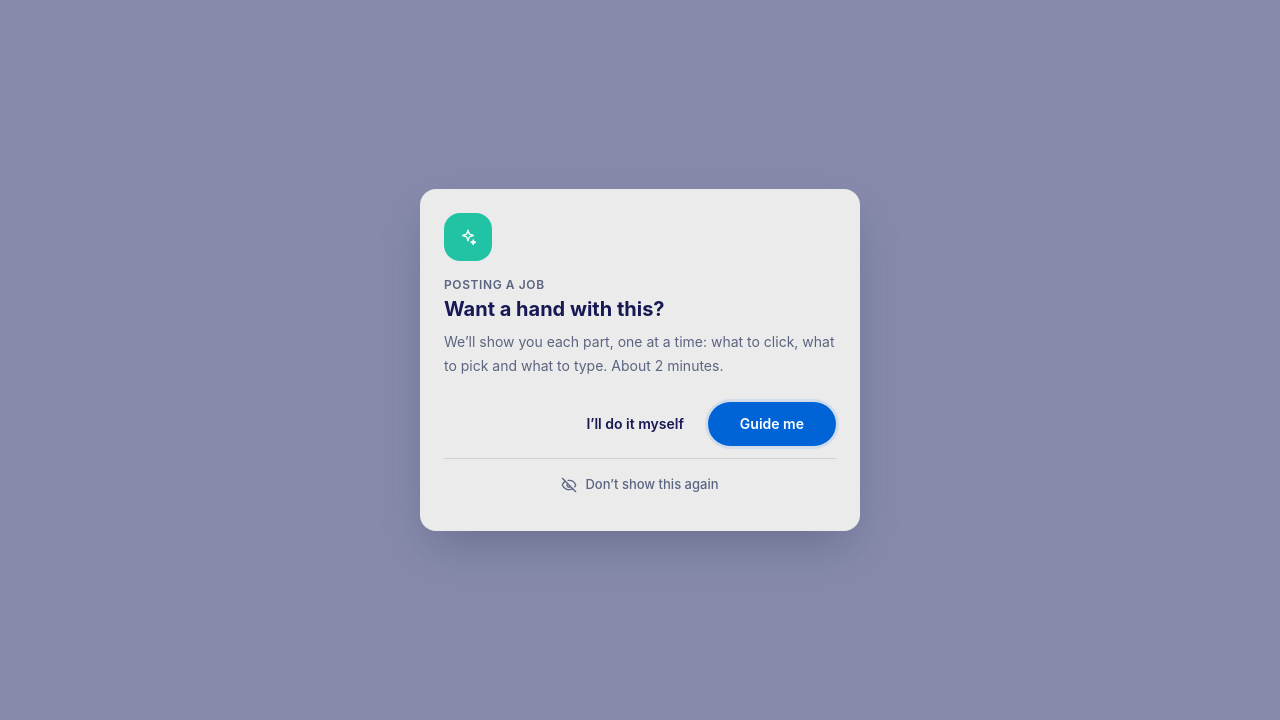
Test: GuideHost › offers "Don’t show this again" in an "every time" play: it mutes, says where to undo it, and ends as skipped
Click the button "Don’t show this again": [640, 485] box top-left (550, 463), bottom-right (730, 507)
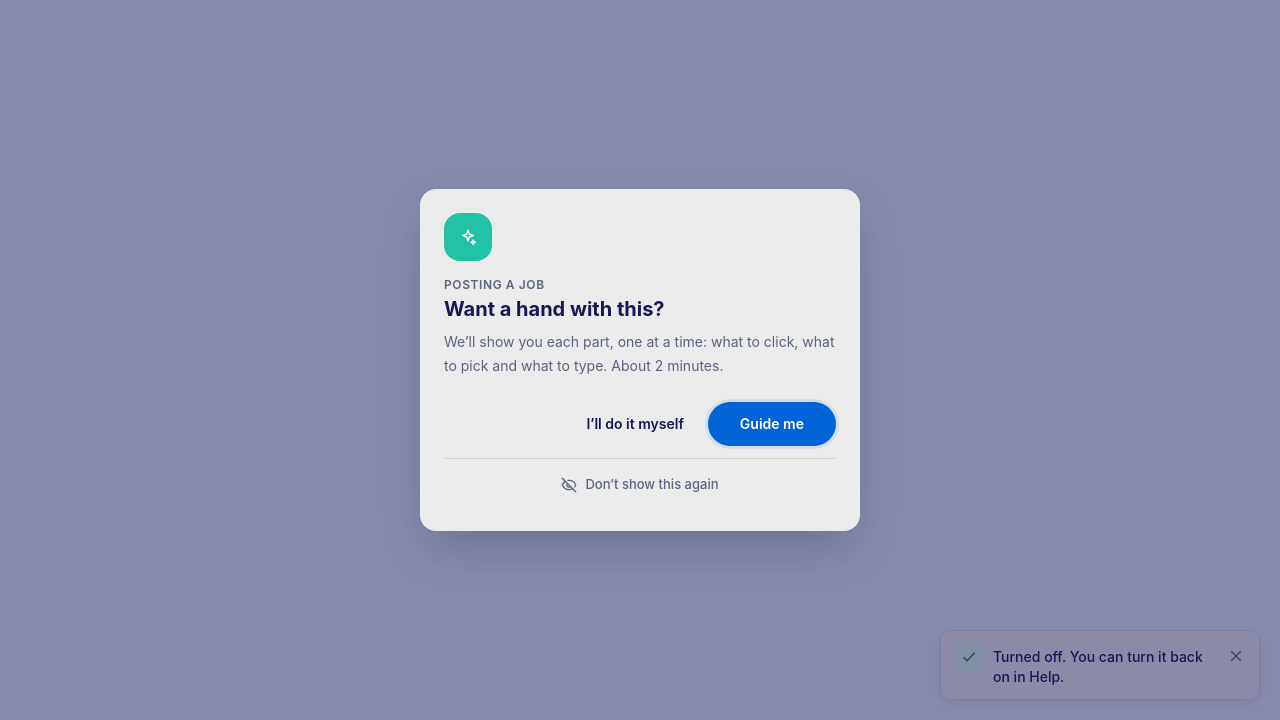
Now the text "Turned off. You can turn it back on in Help." is shown, box top-left (993, 643), bottom-right (1213, 687)
